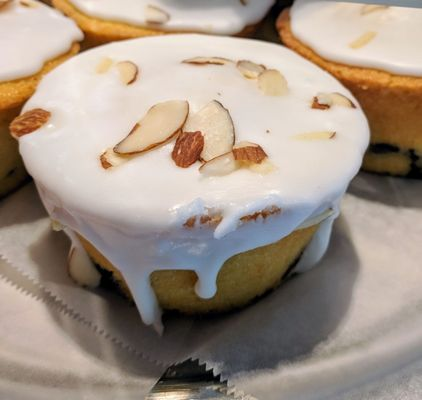sushi: (15, 19, 371, 329), (274, 0, 422, 178)
